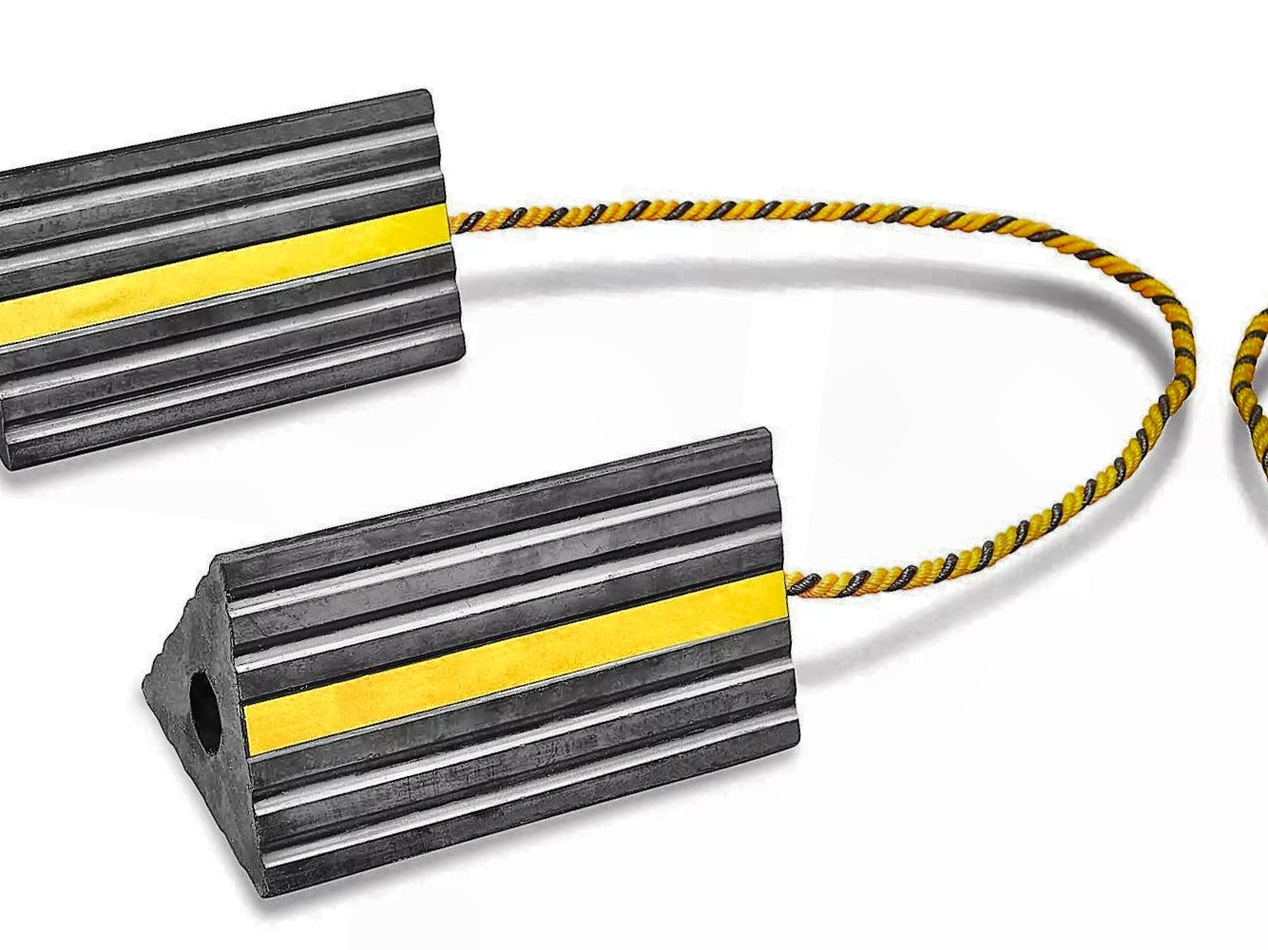chock: (112, 358, 836, 950), (0, 33, 498, 526)
